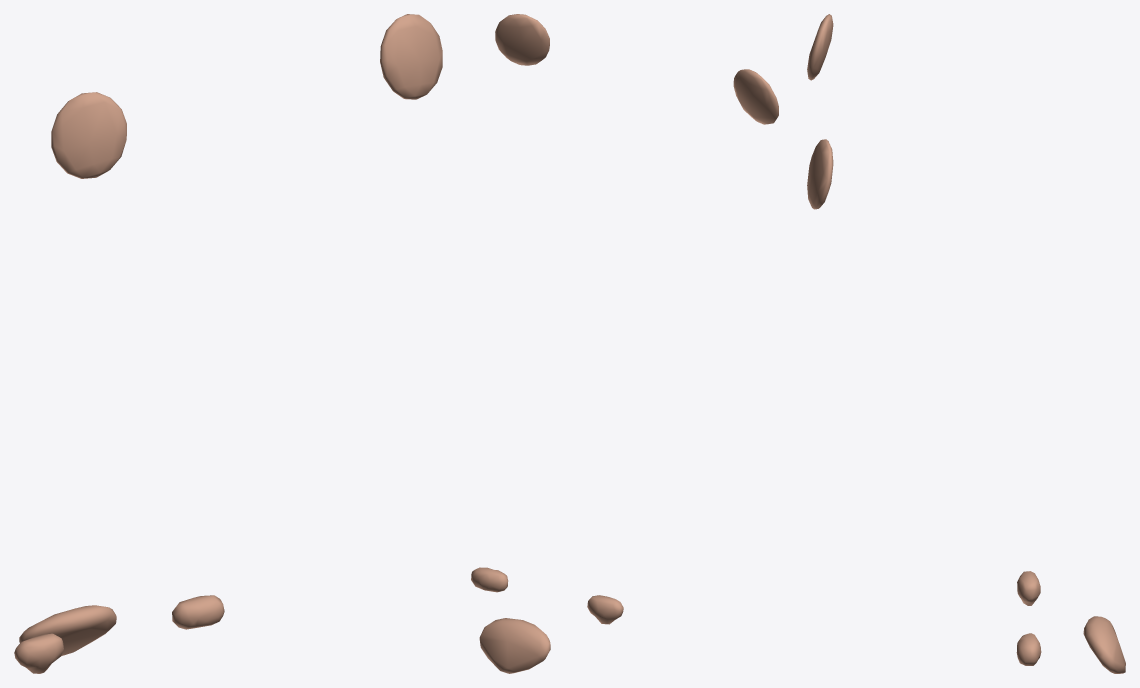
The model's file is pediatric_infant_female.reproductive.LOD2.glb.
3 views of the same model, side by side, from view 1: azimuth 30°, elevation 25°; view 2: azimuth 150°, elevation 25°; view 3: azimuth 270°, elevation 25° (orthographic). The views are drawn at different scales.
Parts seen in each view (by area): view 1: PEDIATRIC.INFANT.FEMALE.REPRODUCTIVE.BREAST_ADIPOSE_TISSUE.R, PEDIATRIC.INFANT.FEMALE.REPRODUCTIVE.BREAST_ADIPOSE_TISSUE.L, PEDIATRIC.INFANT.FEMALE.REPRODUCTIVE.UTERUS, PEDIATRIC.INFANT.FEMALE.REPRODUCTIVE.OVARY.R, PEDIATRIC.INFANT.FEMALE.REPRODUCTIVE.OVARY.L; view 2: PEDIATRIC.INFANT.FEMALE.REPRODUCTIVE.UTERUS, PEDIATRIC.INFANT.FEMALE.REPRODUCTIVE.BREAST_ADIPOSE_TISSUE.L, PEDIATRIC.INFANT.FEMALE.REPRODUCTIVE.BREAST_ADIPOSE_TISSUE.R, PEDIATRIC.INFANT.FEMALE.REPRODUCTIVE.OVARY.R, PEDIATRIC.INFANT.FEMALE.REPRODUCTIVE.OVARY.L; view 3: PEDIATRIC.INFANT.FEMALE.REPRODUCTIVE.UTERUS, PEDIATRIC.INFANT.FEMALE.REPRODUCTIVE.BREAST_ADIPOSE_TISSUE.L, PEDIATRIC.INFANT.FEMALE.REPRODUCTIVE.BREAST_ADIPOSE_TISSUE.R, PEDIATRIC.INFANT.FEMALE.REPRODUCTIVE.OVARY.L, PEDIATRIC.INFANT.FEMALE.REPRODUCTIVE.OVARY.R.
Part boxes in pixels (<box>): PEDIATRIC.INFANT.FEMALE.REPRODUCTIVE.BREAST_ADIPOSE_TISSUE.R: <box>51,92,126,178</box>; PEDIATRIC.INFANT.FEMALE.REPRODUCTIVE.BREAST_ADIPOSE_TISSUE.L: <box>380,14,442,99</box>; PEDIATRIC.INFANT.FEMALE.REPRODUCTIVE.UTERUS: <box>19,605,116,656</box>; PEDIATRIC.INFANT.FEMALE.REPRODUCTIVE.OVARY.R: <box>14,633,63,673</box>; PEDIATRIC.INFANT.FEMALE.REPRODUCTIVE.OVARY.L: <box>172,595,224,629</box>; PEDIATRIC.INFANT.FEMALE.REPRODUCTIVE.UTERUS: <box>479,618,550,673</box>; PEDIATRIC.INFANT.FEMALE.REPRODUCTIVE.BREAST_ADIPOSE_TISSUE.L: <box>495,14,549,65</box>; PEDIATRIC.INFANT.FEMALE.REPRODUCTIVE.BREAST_ADIPOSE_TISSUE.R: <box>733,69,778,124</box>; PEDIATRIC.INFANT.FEMALE.REPRODUCTIVE.OVARY.R: <box>587,595,623,624</box>; PEDIATRIC.INFANT.FEMALE.REPRODUCTIVE.OVARY.L: <box>471,567,508,592</box>; PEDIATRIC.INFANT.FEMALE.REPRODUCTIVE.UTERUS: <box>1083,616,1125,673</box>; PEDIATRIC.INFANT.FEMALE.REPRODUCTIVE.BREAST_ADIPOSE_TISSUE.L: <box>807,139,833,209</box>; PEDIATRIC.INFANT.FEMALE.REPRODUCTIVE.BREAST_ADIPOSE_TISSUE.R: <box>807,14,833,80</box>; PEDIATRIC.INFANT.FEMALE.REPRODUCTIVE.OVARY.L: <box>1016,633,1041,665</box>; PEDIATRIC.INFANT.FEMALE.REPRODUCTIVE.OVARY.R: <box>1017,571,1040,605</box>.
Size of the model in its own units: 0.1075 by 0.1929 by 0.0939.
